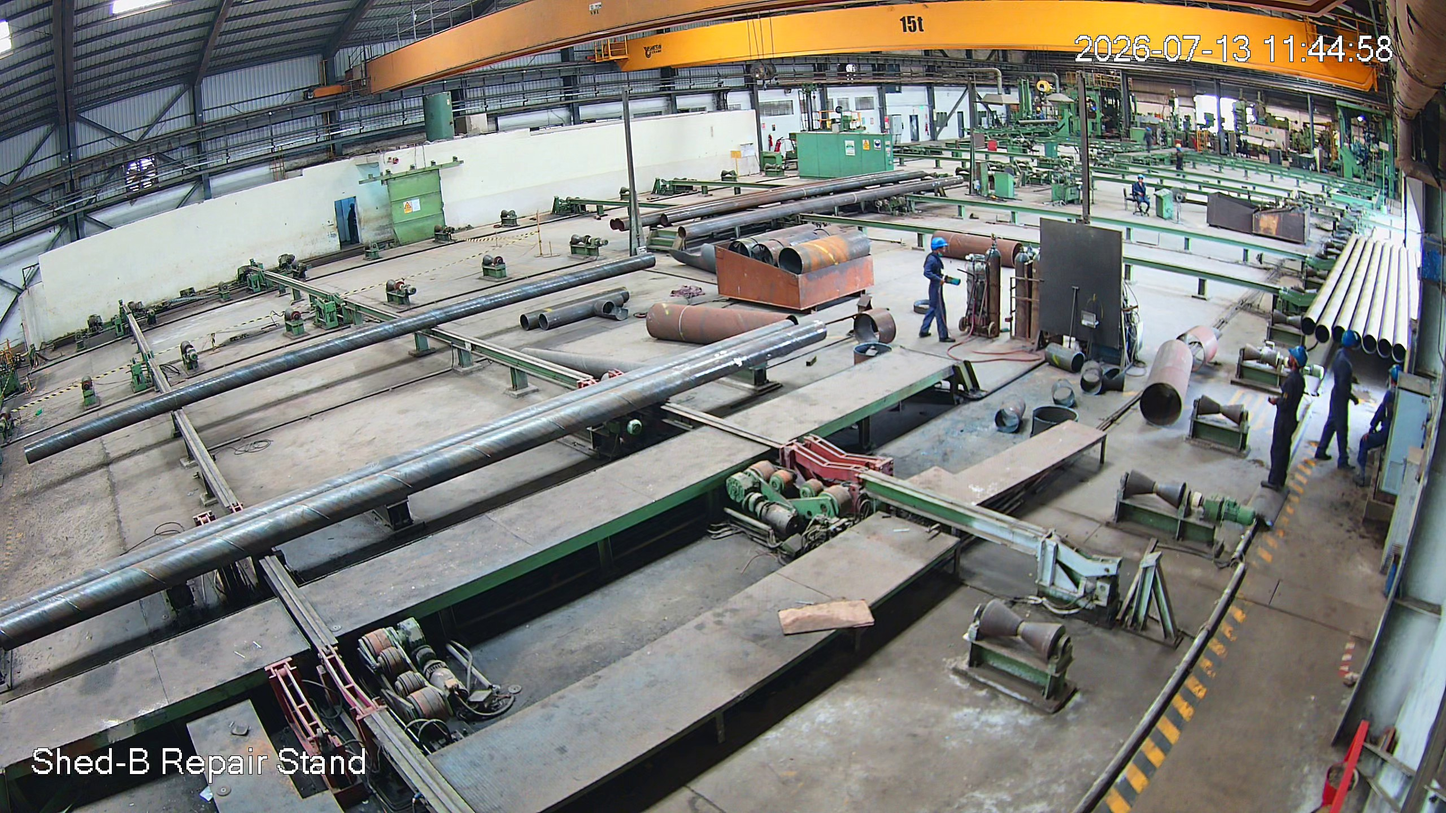Helmet: (1283, 343, 1309, 377), (930, 237, 950, 260), (1341, 328, 1358, 354)
Person: (1261, 346, 1311, 487), (1320, 331, 1361, 468), (923, 238, 952, 344)
